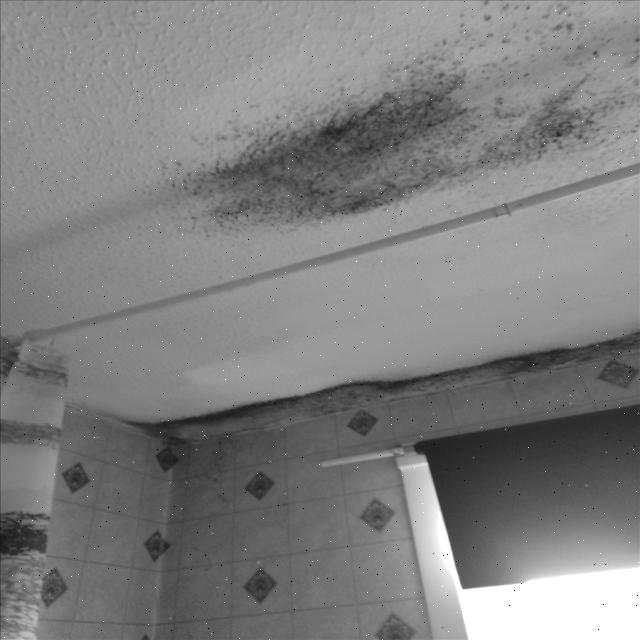stain marks: (90, 0, 640, 249), (22, 247, 640, 431)
